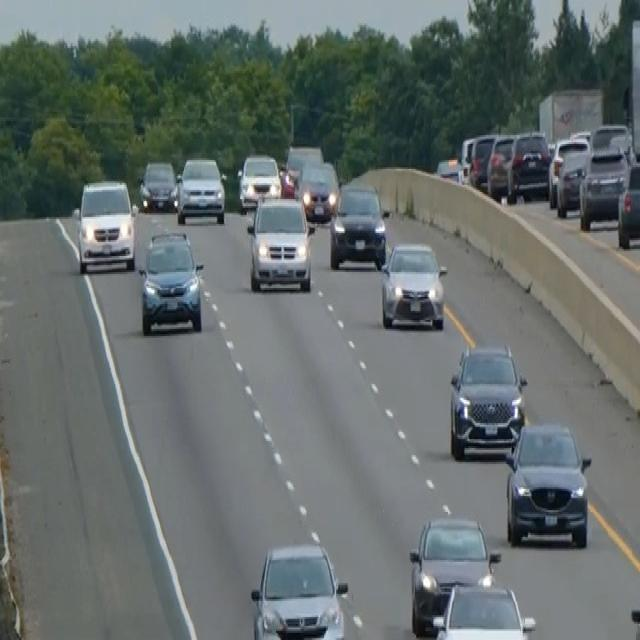car: (503, 418, 592, 549), (408, 512, 500, 635), (249, 539, 348, 638), (448, 340, 527, 460), (137, 228, 204, 336), (429, 574, 536, 638), (379, 238, 447, 331), (328, 180, 387, 270), (578, 143, 628, 230), (175, 155, 226, 224), (507, 128, 551, 201), (547, 135, 588, 206), (297, 158, 340, 224), (237, 151, 281, 212), (138, 156, 177, 212), (616, 156, 639, 249), (486, 132, 516, 199), (283, 140, 323, 190), (468, 132, 496, 188), (459, 134, 475, 182)
lorry: (623, 16, 639, 165)
minivan: (244, 190, 315, 294), (73, 176, 137, 274)
